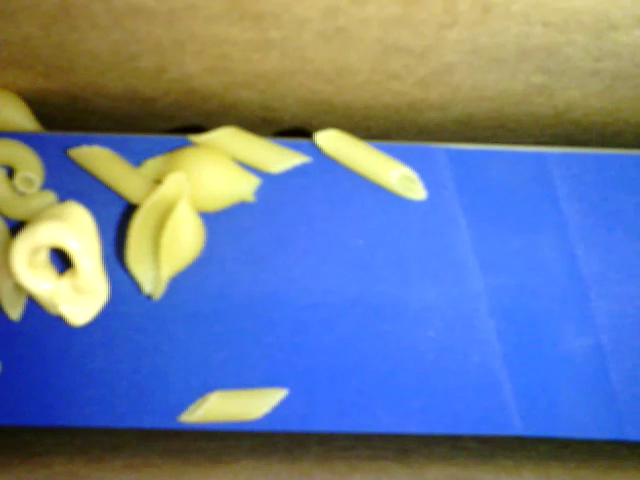elbow: (1, 167, 60, 217), (1, 137, 48, 194)
penne: (313, 126, 429, 202), (186, 123, 313, 175), (67, 143, 157, 205), (178, 386, 289, 421), (1, 215, 29, 321)
shell: (125, 172, 206, 303), (138, 145, 264, 214)
tortellini: (9, 201, 111, 326)
